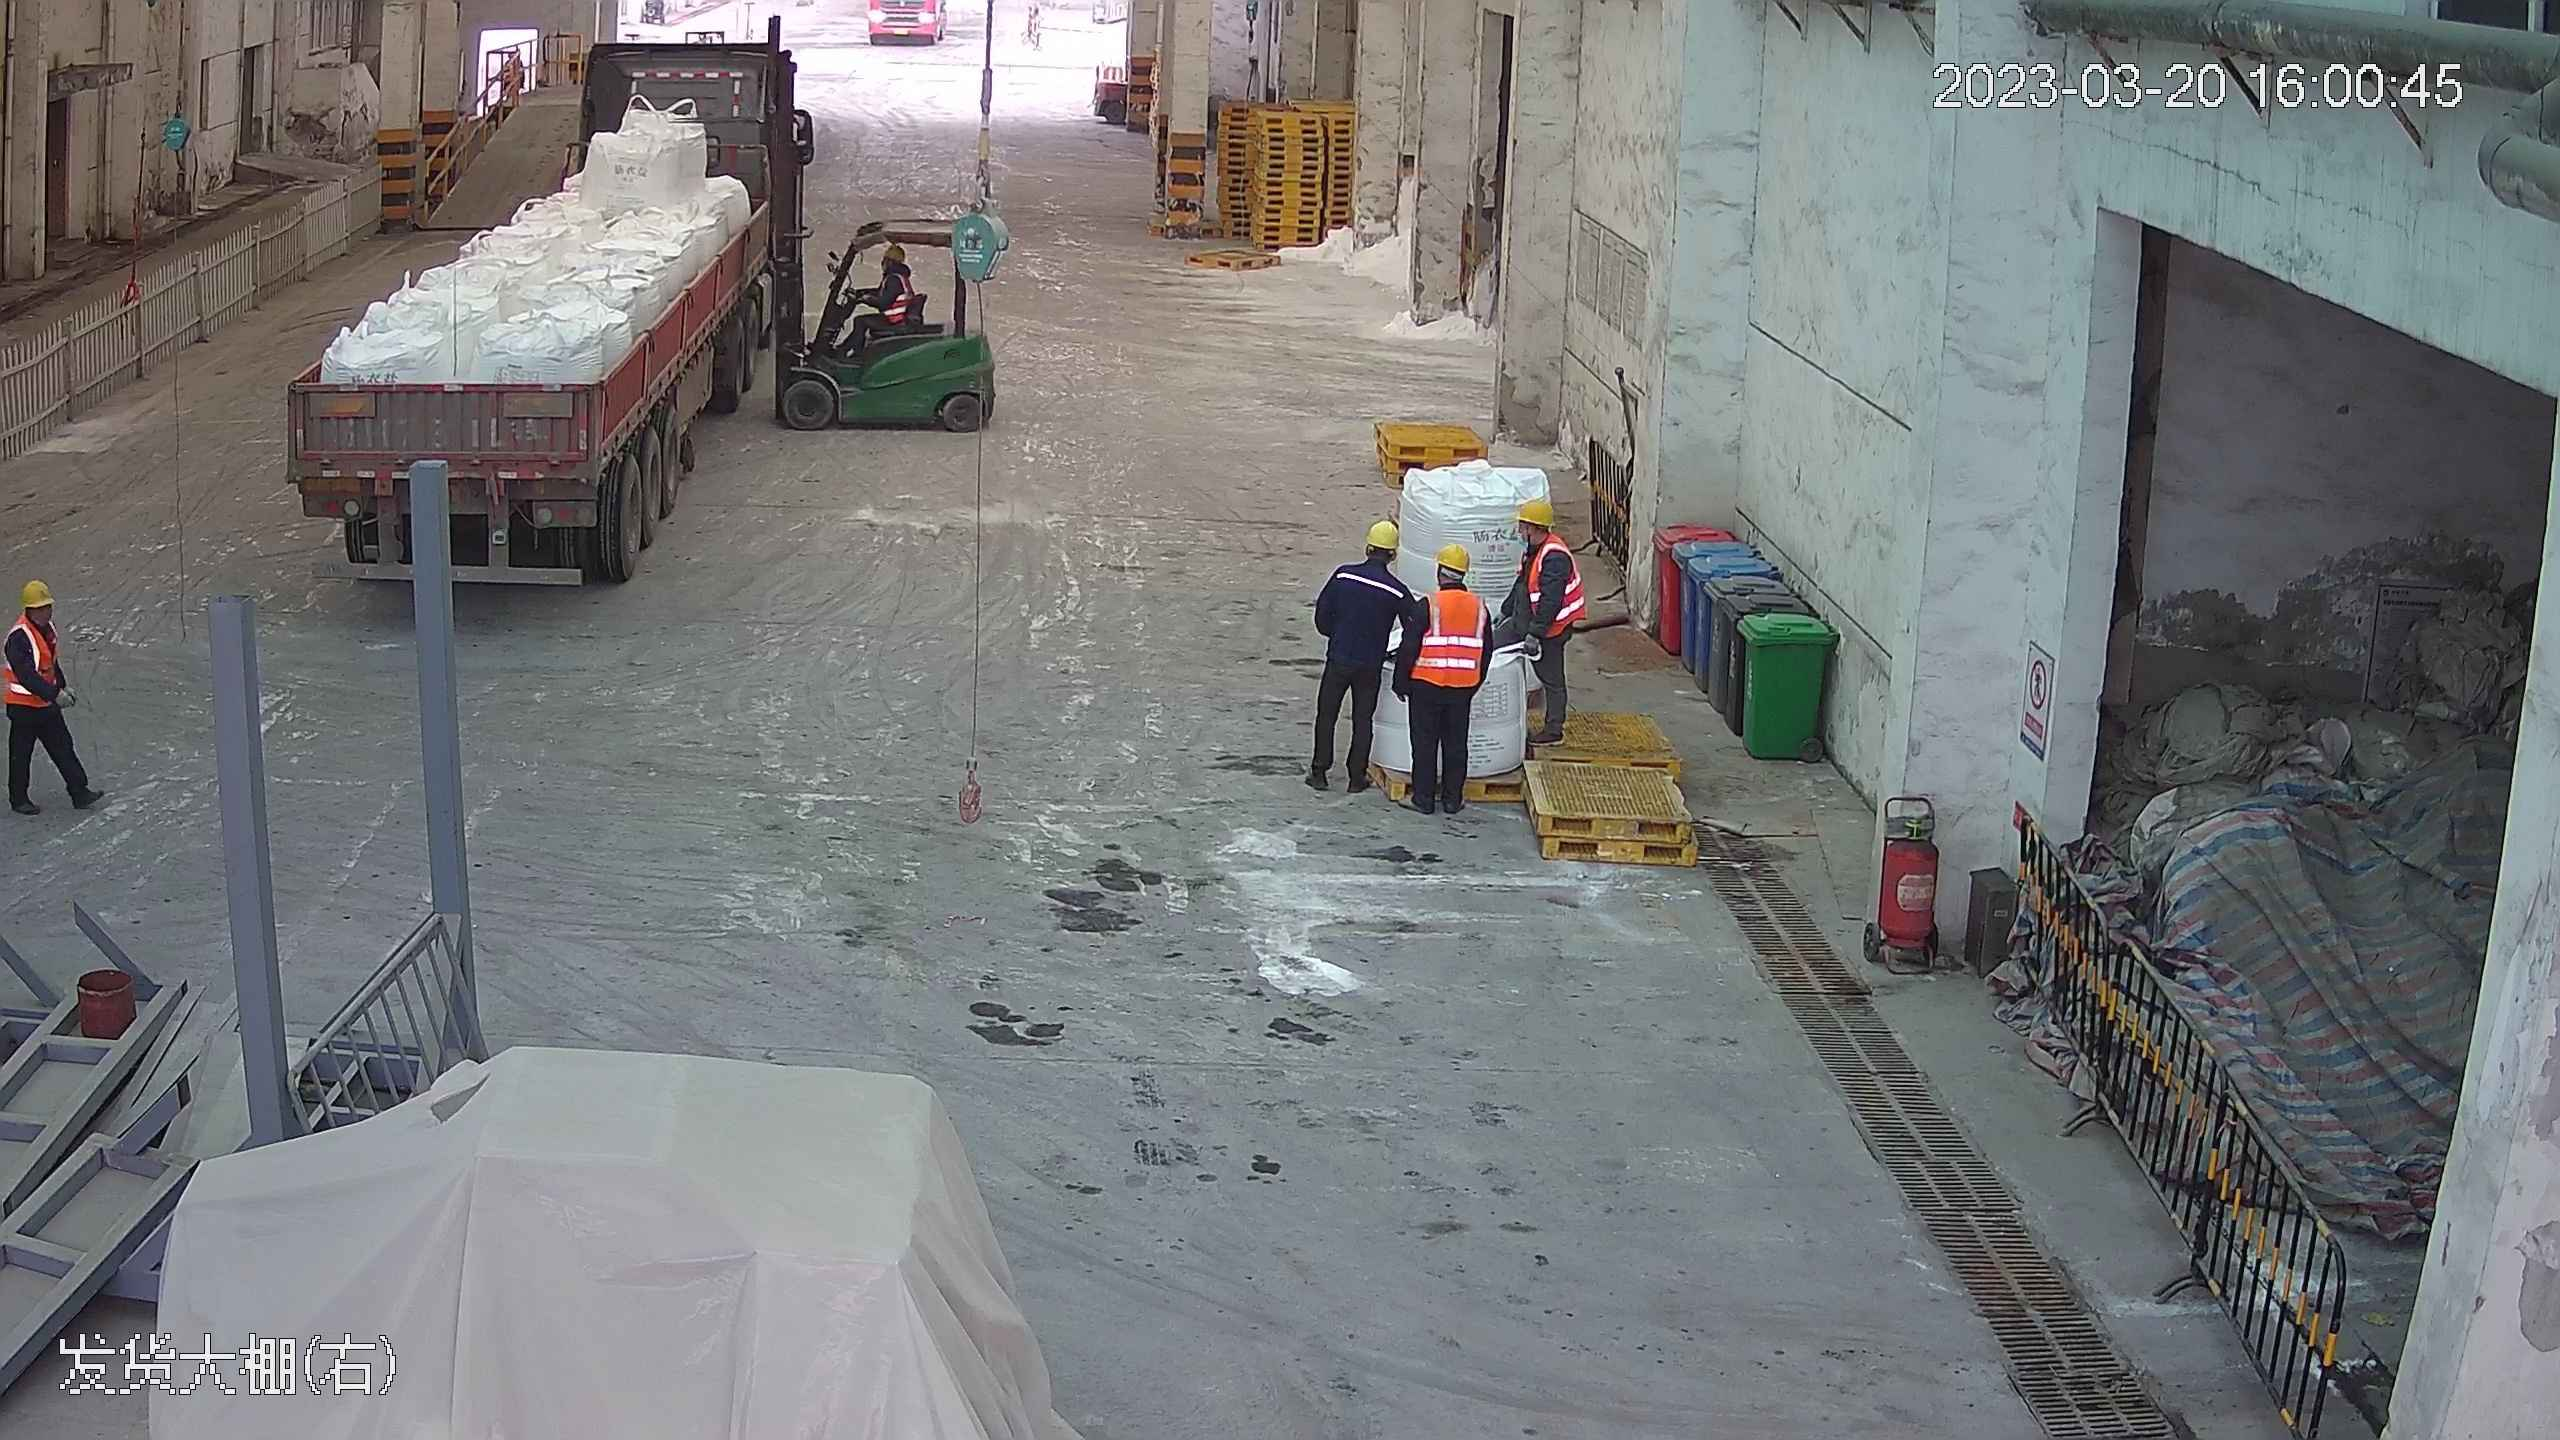head: (1322, 515, 1412, 607), (1408, 539, 1489, 632), (1508, 492, 1577, 582), (4, 574, 63, 655), (876, 239, 915, 284)
helmet: (1514, 493, 1560, 526), (1429, 538, 1475, 572), (1361, 514, 1403, 549), (17, 575, 57, 606), (879, 238, 905, 259)
people: (1390, 526, 1496, 810), (1307, 512, 1409, 795), (2, 573, 102, 816), (1506, 485, 1585, 765), (837, 238, 916, 360)
truck: (258, 14, 792, 583)
